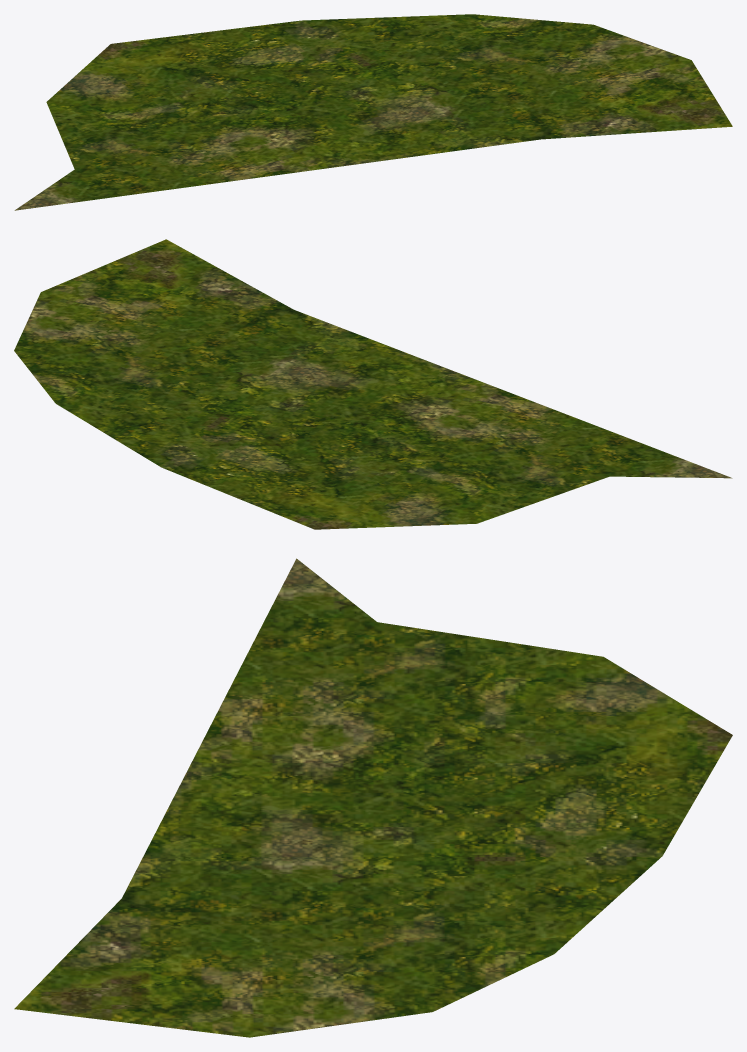
The model's file is OVERHILL_A_01_LINE22.fbx.
3 views of the same model, one above another, from view 1: azimuth 30°, elevation 25°; view 2: azimuth 150°, elevation 25°; view 3: azimuth 270°, elevation 25° (orthographic). The views are drawn at different scales.
Visible parts, largest first — view 1: OVERHILL_A_01_LINE22; view 2: OVERHILL_A_01_LINE22; view 3: OVERHILL_A_01_LINE22.
Boxes of the visible parts, x1,y1,x2,y2 form: OVERHILL_A_01_LINE22: [14, 14, 732, 210]; OVERHILL_A_01_LINE22: [14, 239, 732, 529]; OVERHILL_A_01_LINE22: [14, 558, 732, 1037].
Bounding box in the file's own units: 35182 × 67.57 × 22260.
Materials: 1 (1 with a texture image).
